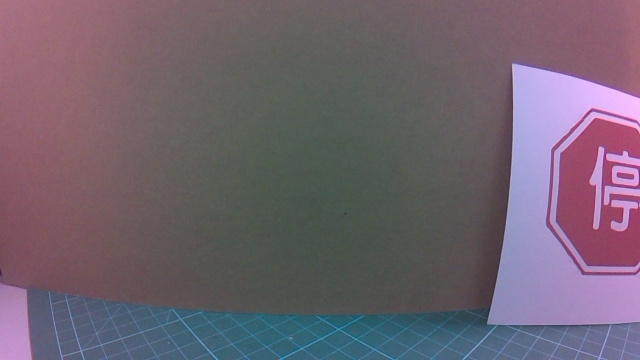stop: (517, 95, 640, 301)
